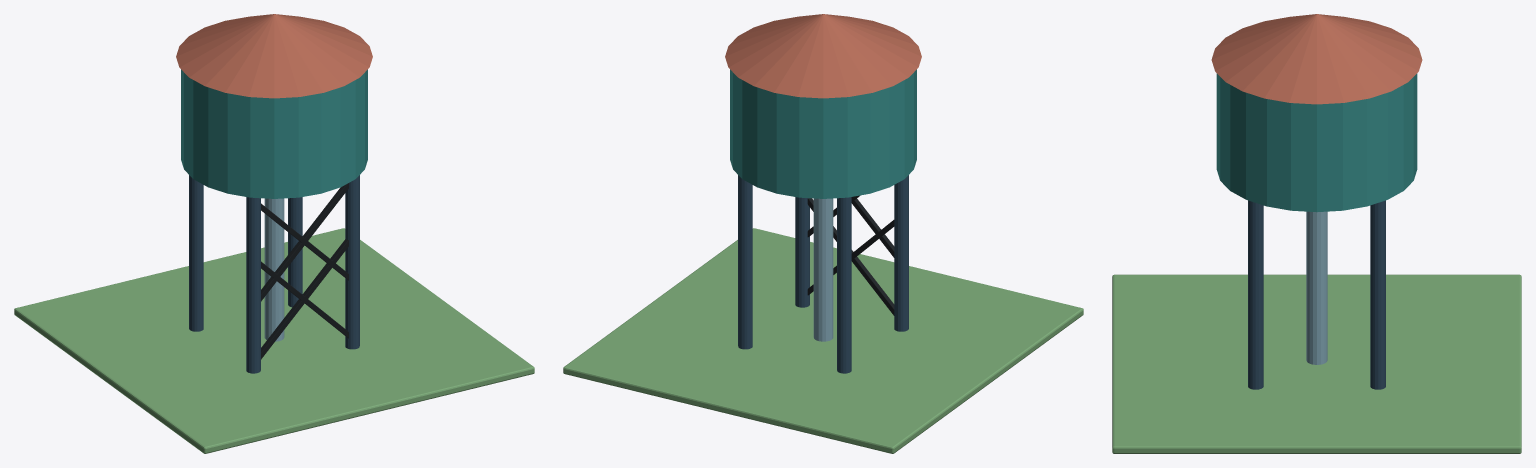
Rendered from UTIL_WATER_2x2_001.glb.
3 views of the same model, side by side, from view 1: azimuth 30°, elevation 25°; view 2: azimuth 150°, elevation 25°; view 3: azimuth 270°, elevation 25° (orthographic). The views are drawn at different scales.
Parts seen in each view (by area): view 1: UTIL_WATER_2x2_001_Visual; view 2: UTIL_WATER_2x2_001_Visual; view 3: UTIL_WATER_2x2_001_Visual.
Part boxes in pixels (x1,y1,x2,y2): UTIL_WATER_2x2_001_Visual: [14, 14, 534, 453]; UTIL_WATER_2x2_001_Visual: [563, 14, 1083, 453]; UTIL_WATER_2x2_001_Visual: [1112, 14, 1521, 453].
Size of what is drawn, in the model's own units: 3.88 by 3.7 by 3.88.
